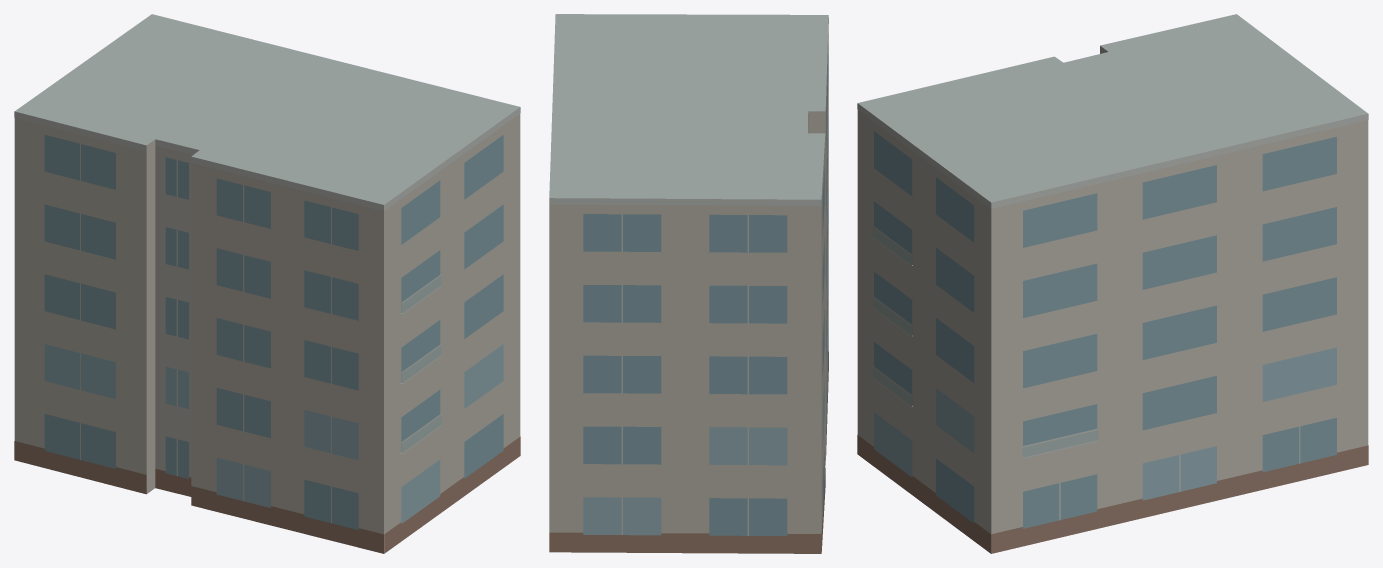
File: survey-upis-32724293.glb
3 renders of one model, left to right at view 1: azimuth 30°, elevation 25°; view 2: azimuth 150°, elevation 25°; view 3: azimuth 270°, elevation 25°, orthographic.
Parts seen in each view (by area): view 1: survey-upis-32724293.tmp; view 2: survey-upis-32724293.tmp; view 3: survey-upis-32724293.tmp.
Boxes of the visible parts, left/top/right/bottom form: survey-upis-32724293.tmp: left=14, top=14, right=520, bottom=553; survey-upis-32724293.tmp: left=549, top=14, right=828, bottom=553; survey-upis-32724293.tmp: left=857, top=14, right=1368, bottom=553.
Bounding box in the file's own units: 15.56 × 13.5 × 17.81.
